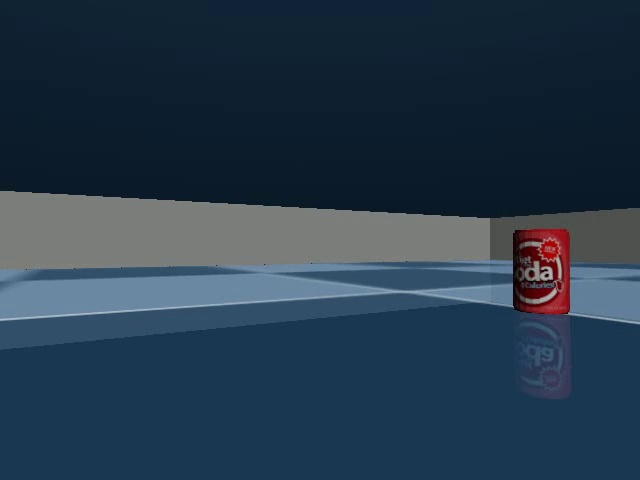can: (507, 224, 579, 321)
